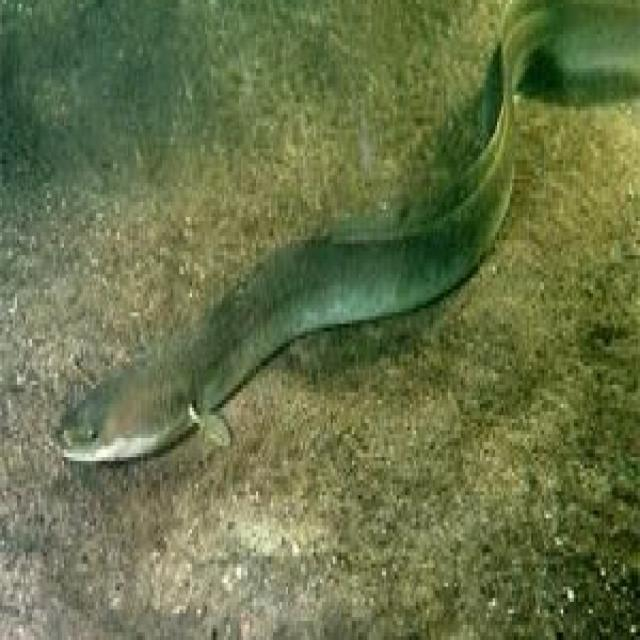Freshwater-Eel: (22, 63, 640, 540)
